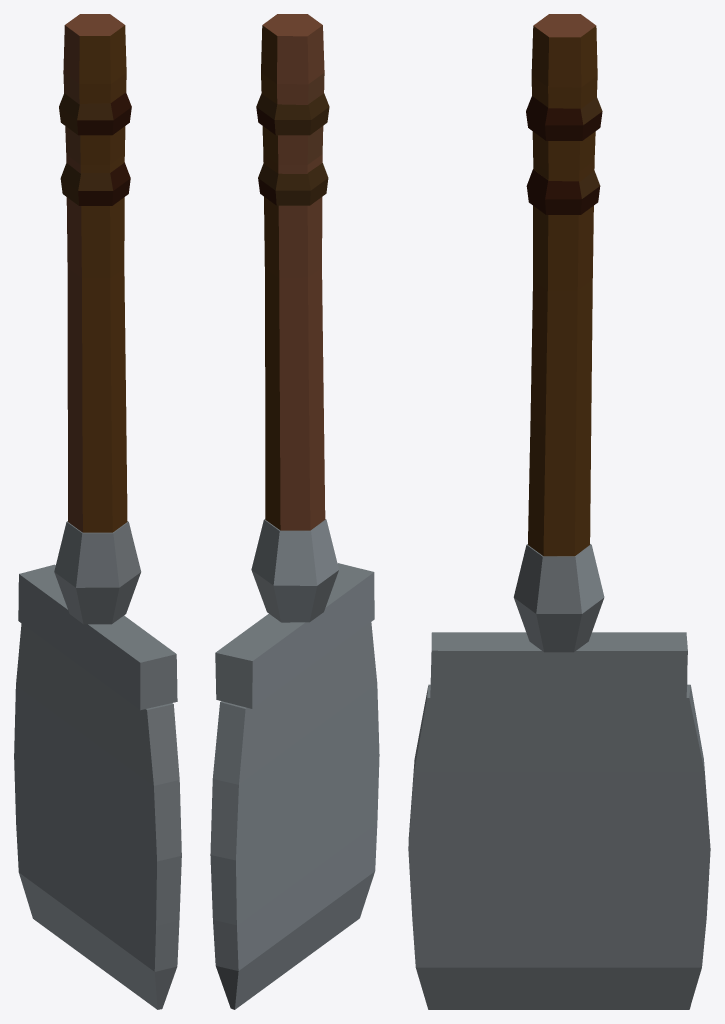
File: shovel_c.glb
3 views of the same model, side by side, from view 1: azimuth 30°, elevation 25°; view 2: azimuth 150°, elevation 25°; view 3: azimuth 270°, elevation 25° (orthographic). The views are drawn at different scales.
Parts seen in each view (by area): view 1: shovel_blade, shovel_handle, shovel_collar, shovel_socket, shovel_grip; view 2: shovel_blade, shovel_handle, shovel_collar, shovel_socket, shovel_grip; view 3: shovel_blade, shovel_handle, shovel_collar, shovel_socket, shovel_grip.
Part boxes in pixels (x1,y1,x2,y2): shovel_blade: (14,623,181,1009); shovel_handle: (63,14,127,532); shovel_collar: (18,564,177,710); shovel_socket: (54,521,141,624); shovel_grip: (59,92,131,205); shovel_blade: (210,622,379,1009); shovel_handle: (261,14,325,530); shovel_collar: (215,563,374,708); shovel_socket: (251,519,338,622); shovel_grip: (256,93,329,205); shovel_blade: (408,684,710,1009); shovel_handle: (528,14,597,556); shovel_collar: (430,632,687,700); shovel_socket: (513,544,604,652); shovel_grip: (526,96,602,214).
Size of the model in its own units: 0.0522 by 0.712 by 0.1984.
